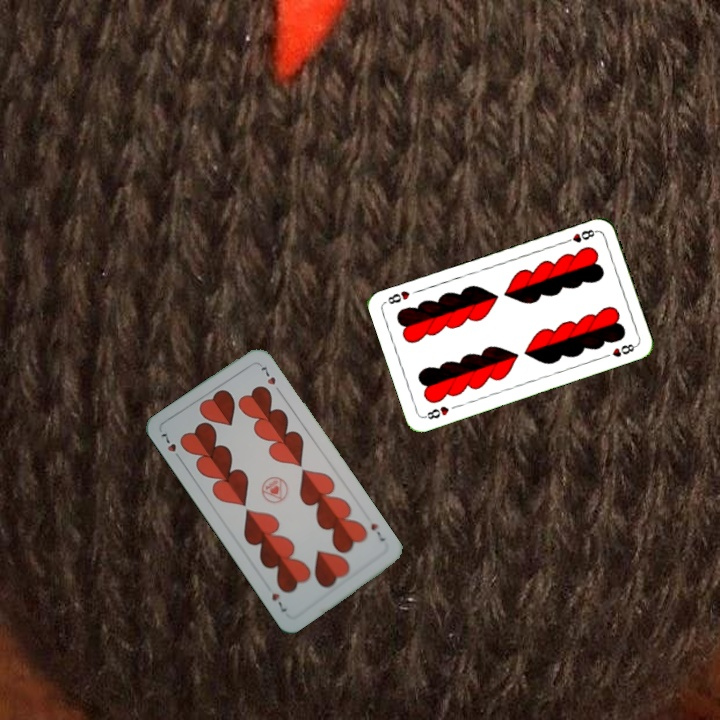H7: (156, 429, 184, 463), (367, 519, 388, 544)
H8: (560, 225, 600, 246), (420, 402, 452, 422)
